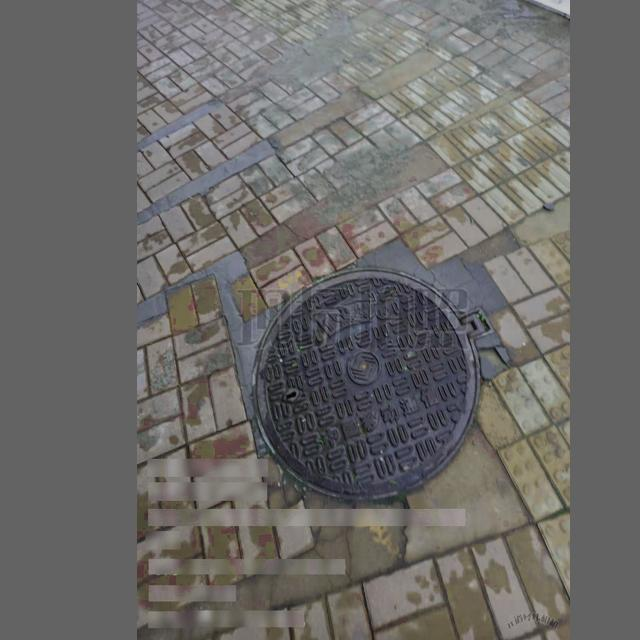good: (252, 267, 496, 502)
